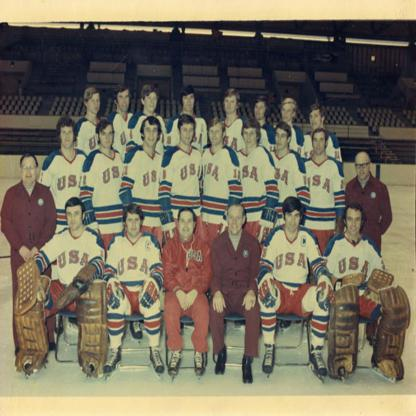face: (228, 207, 243, 236), (179, 212, 195, 239), (21, 158, 37, 183), (67, 207, 83, 231), (356, 154, 370, 180), (348, 210, 362, 235), (145, 122, 159, 147), (126, 214, 141, 236), (100, 125, 114, 148), (286, 212, 301, 232), (313, 133, 326, 155), (61, 127, 74, 149), (181, 125, 195, 145), (210, 124, 223, 145), (244, 129, 258, 148), (276, 129, 288, 151), (119, 91, 131, 112), (145, 94, 158, 112), (88, 94, 100, 113), (311, 111, 322, 131), (225, 96, 237, 113), (283, 104, 294, 122), (184, 95, 196, 111), (256, 102, 267, 119)
